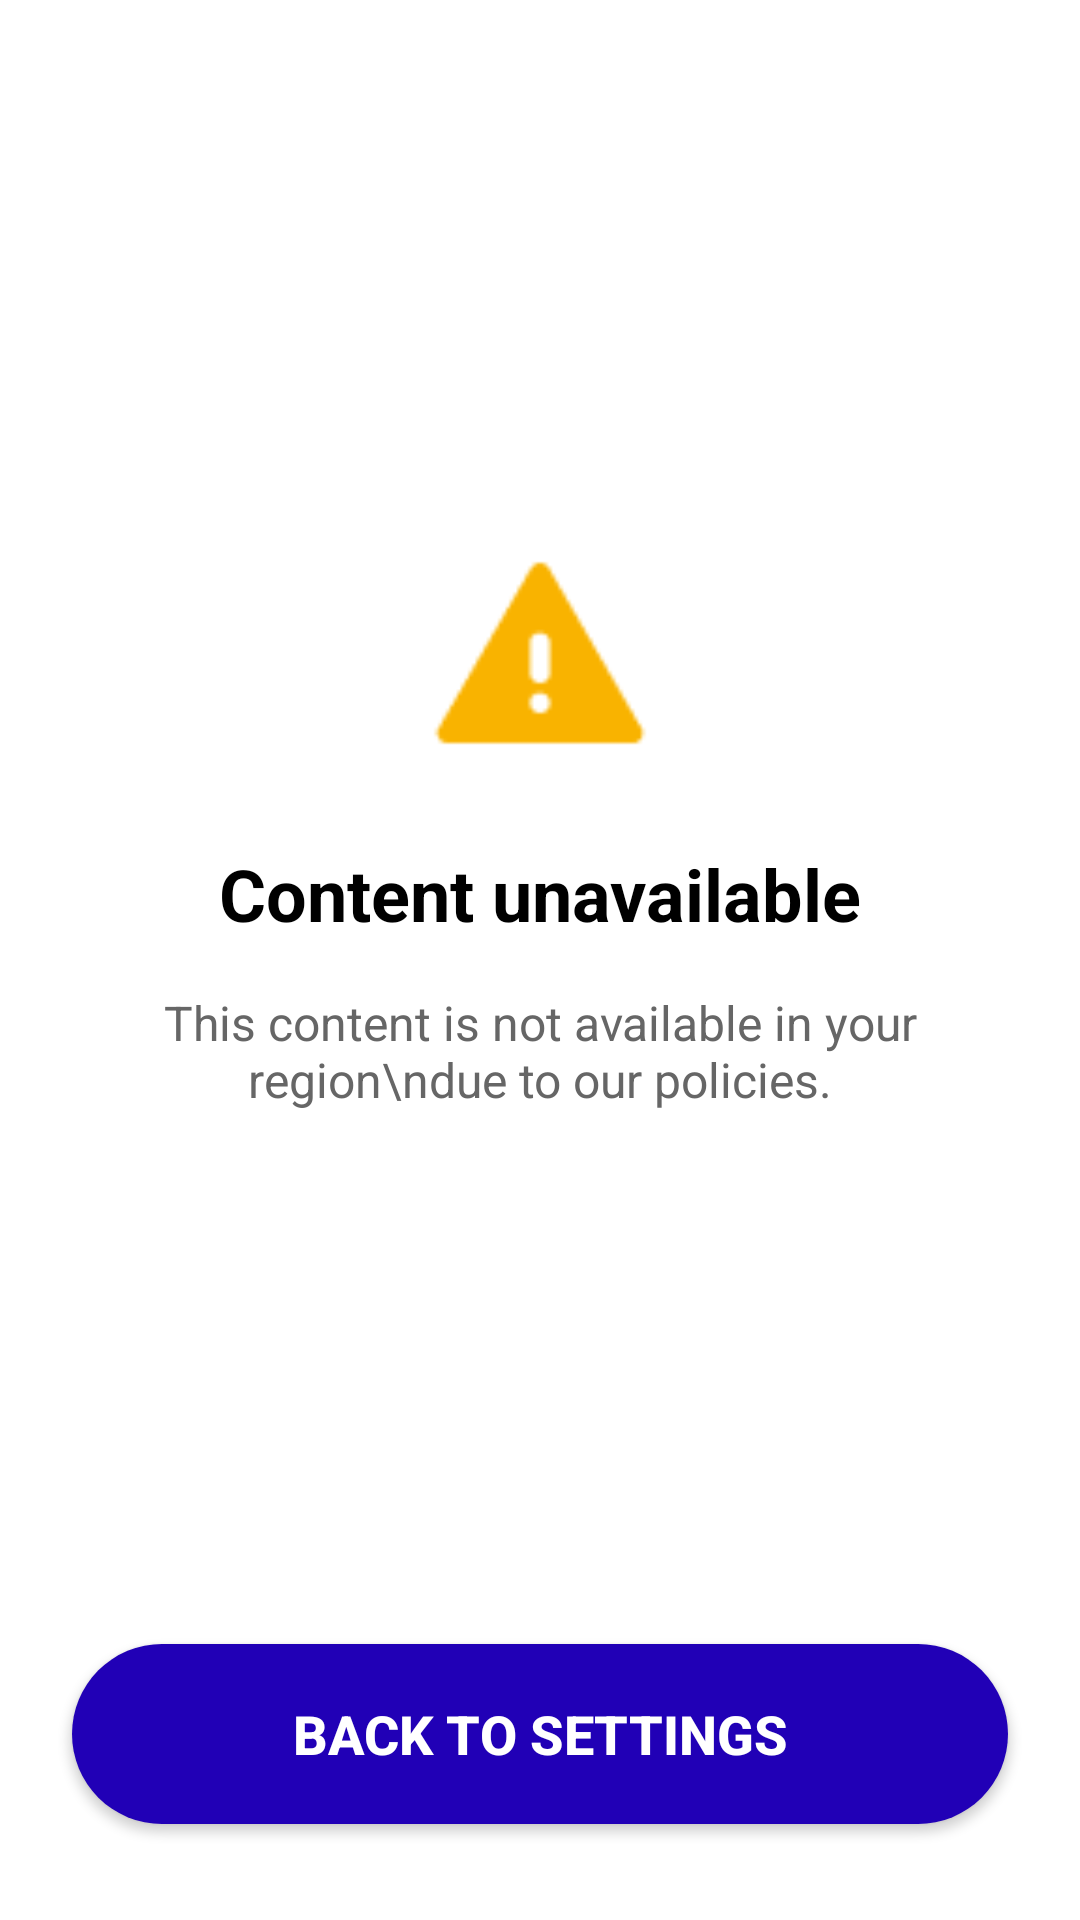

Named icons in this screenshot (1080 x 1920) and their bounding boxes, (x1, y1, x2, y2):
Warning: (434, 562, 646, 745)
